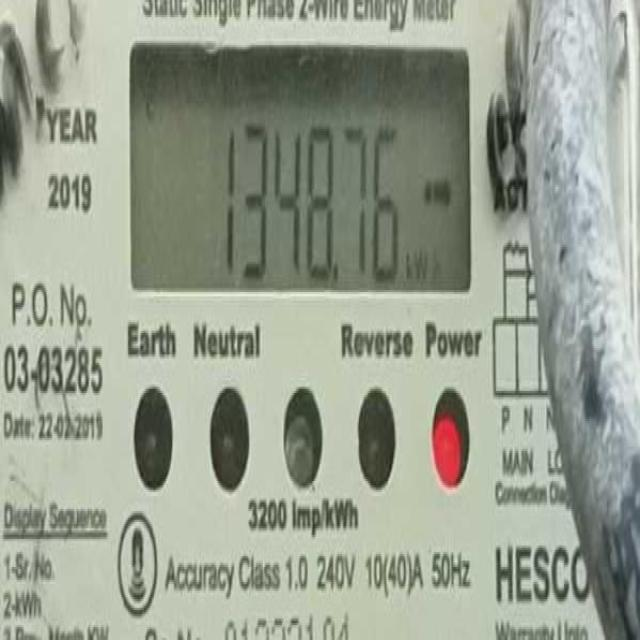1: (214, 116, 238, 273)
3: (237, 113, 274, 282)
4: (272, 113, 306, 279)
6: (370, 112, 404, 286)
7: (342, 113, 370, 281)
8: (304, 108, 334, 284)
Digital meter: (134, 43, 470, 291)
point: (332, 258, 342, 284)
